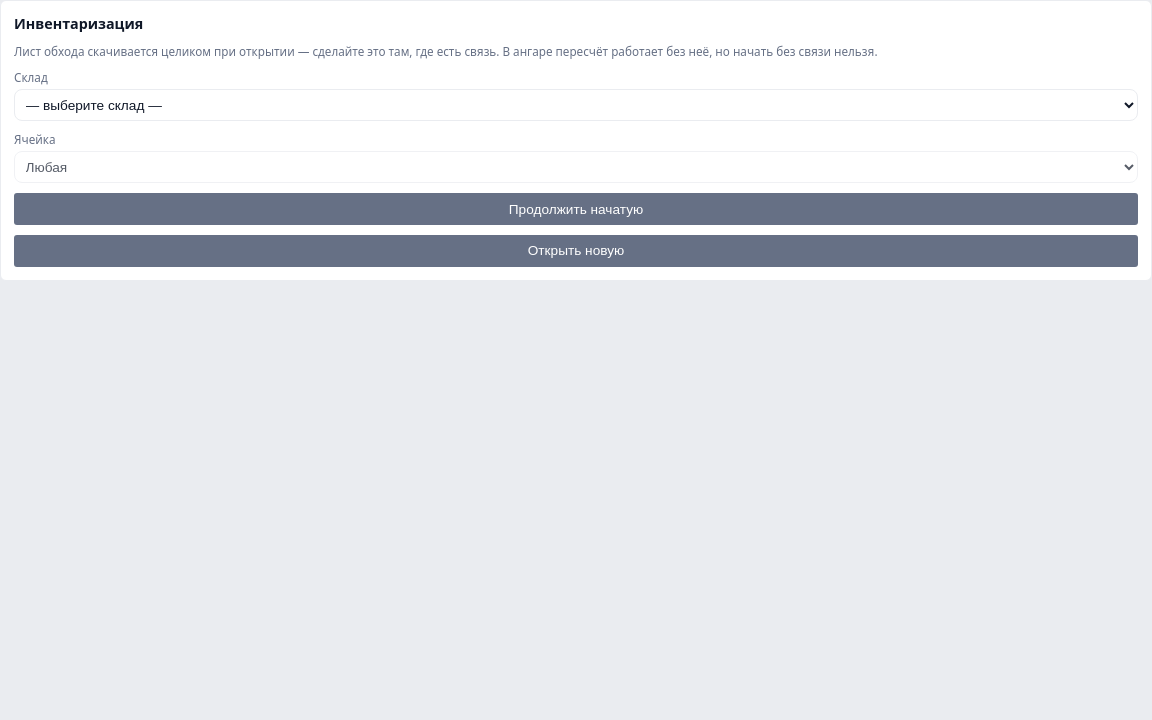
Scenario: группы и вкладки пересчёта › внесённый факт переводит строку в «Отсканированы»
Step 1. Select "Ткацкая" in the dropdown labelled "Склад" → (576, 105), box [14,89,1138,121]
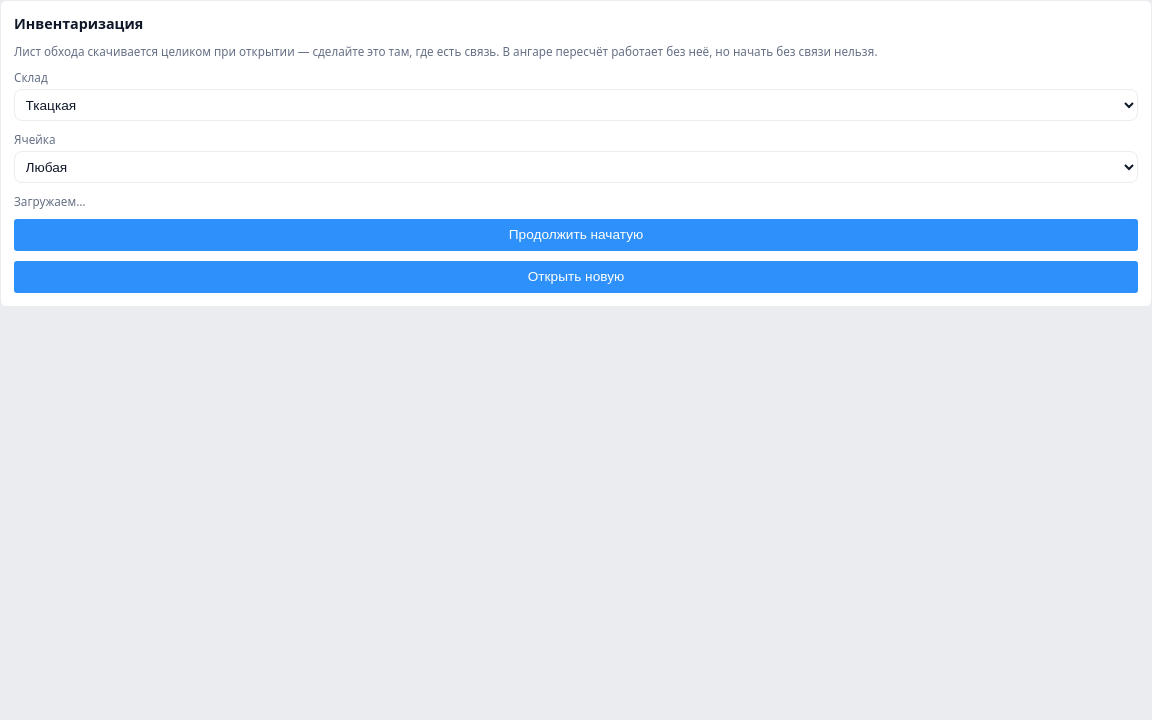
Step 2. Click the button "Открыть новую" → click(576, 277), box [14,261,1138,293]
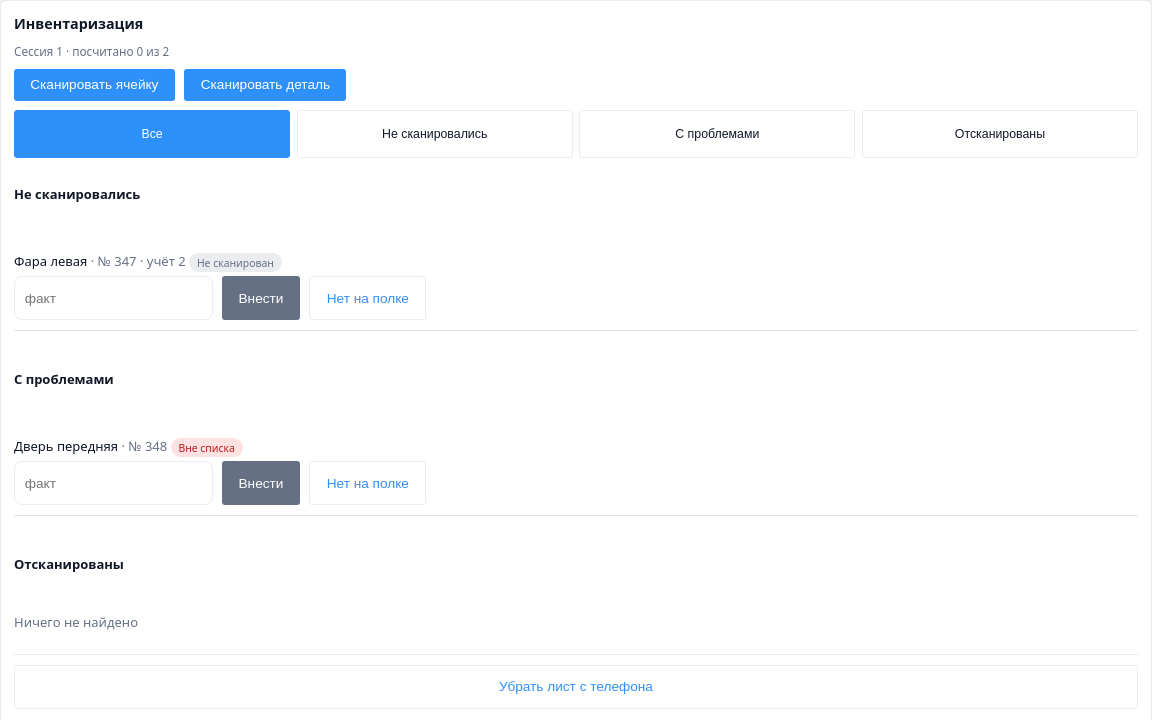
Now the text "Дверь передняя" is shown, box [14,437,118,455]
Step 3. Type "2" into the number field with placeholder "факт" below "Фара левая" → (113, 298), box [14,276,212,320]
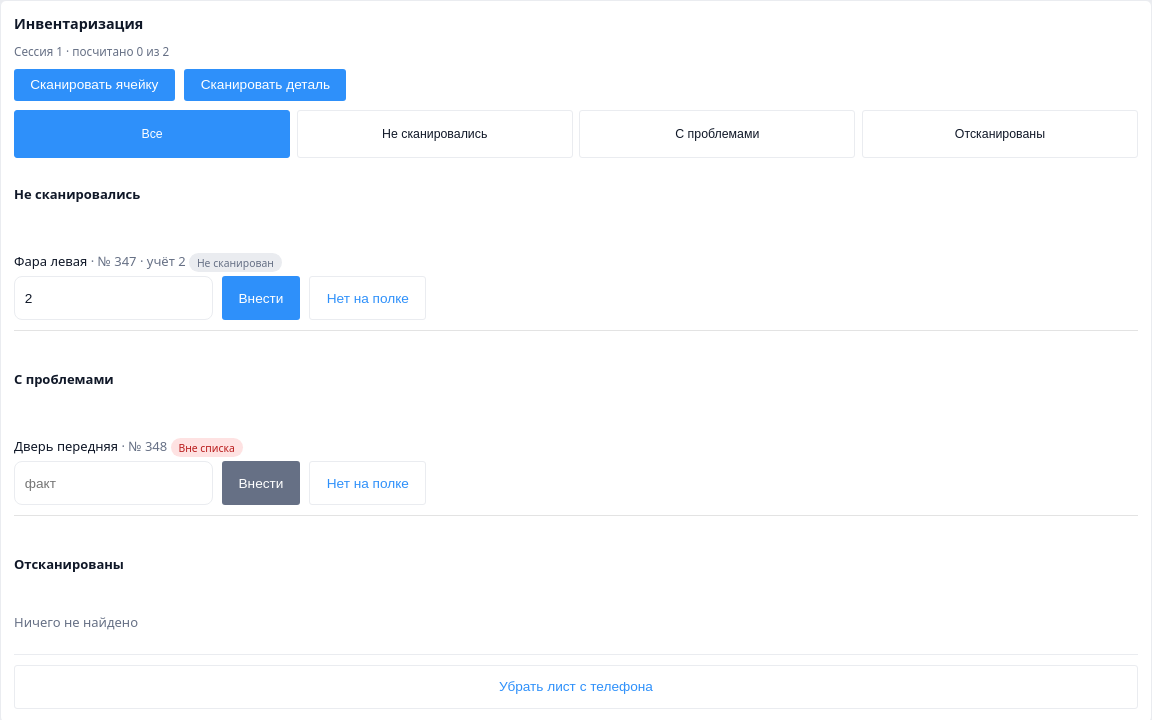
Step 4. Click the button "Внести" below "Фара левая" → click(261, 298), box [222,276,300,320]
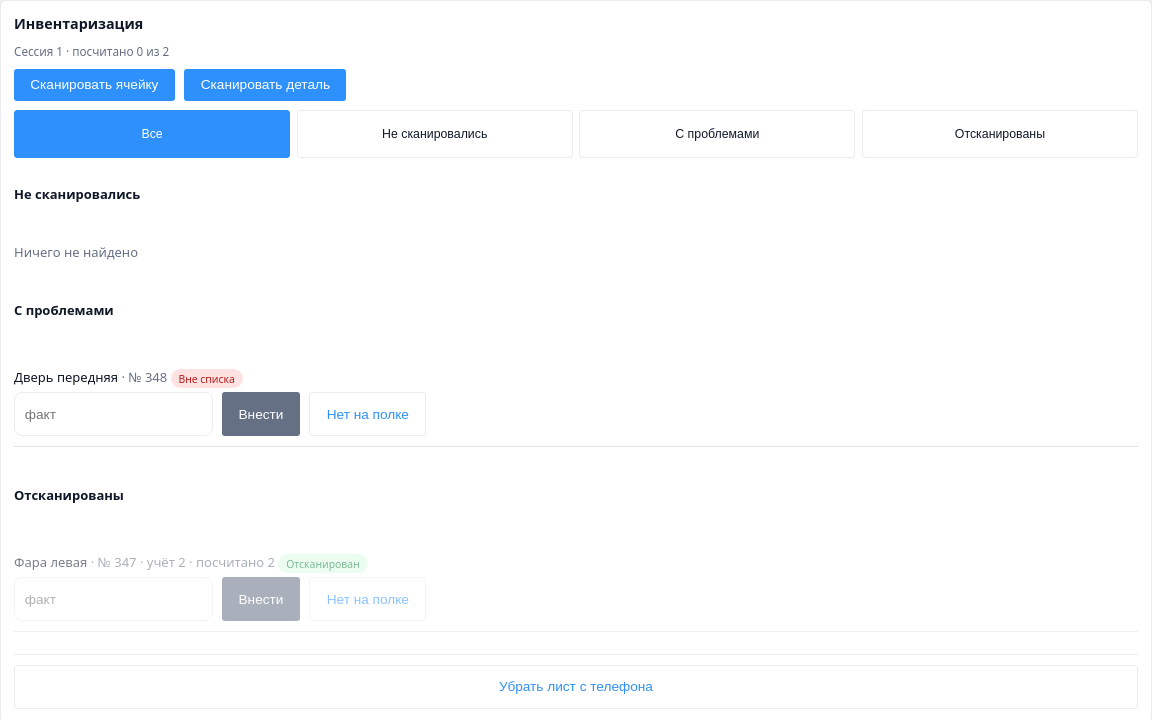
Now the list item "Фара левая" shows "Отсканирован", box [286,556,360,570]
